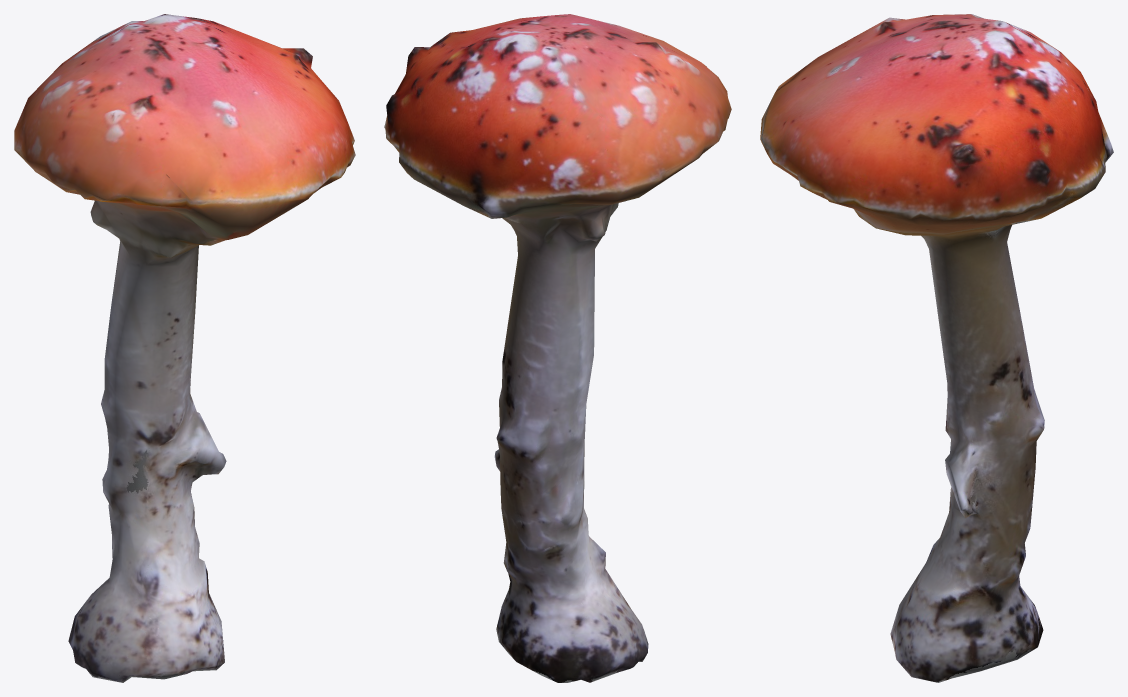
The picture shows the model from 3 angles, left to right: view 1: azimuth 30°, elevation 25°; view 2: azimuth 150°, elevation 25°; view 3: azimuth 270°, elevation 25°; orthographic projection. The views are drawn at different scales.
Parts seen in each view (by area): view 1: mushroom_04; view 2: mushroom_04; view 3: mushroom_04.
Boxes of the visible parts, x1,y1,x2,y2 form: mushroom_04: [14, 14, 355, 682]; mushroom_04: [384, 14, 731, 682]; mushroom_04: [760, 14, 1113, 682].
Size of the model in its own units: 50.85 by 103 by 51.53.
